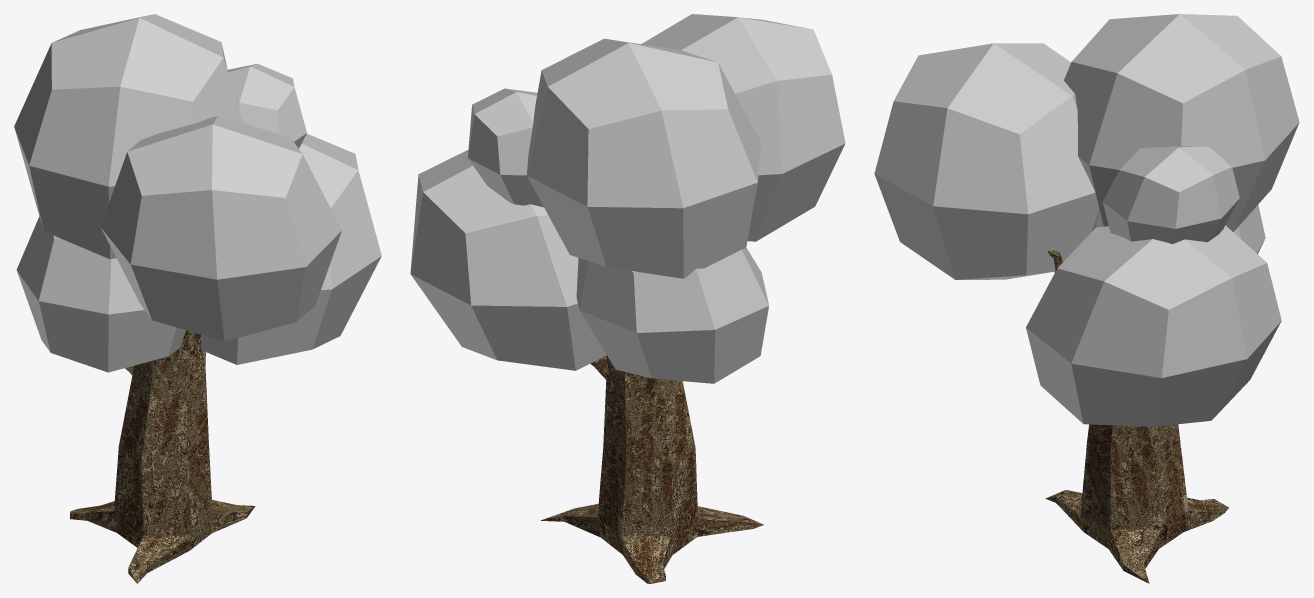
The model's file is Oak.fbx.
3 renders of one model, left to right at view 1: azimuth 30°, elevation 25°; view 2: azimuth 150°, elevation 25°; view 3: azimuth 270°, elevation 25°, orthographic. The views are drawn at different scales.
Visible parts, largest first — view 1: Cube.004; view 2: Cube.004; view 3: Cube.004.
Boxes of the visible parts, left/top/right/bottom form: Cube.004: left=14, top=14, right=381, bottom=583; Cube.004: left=410, top=14, right=845, bottom=583; Cube.004: left=874, top=14, right=1299, bottom=583.
Size of the model in its own units: 804 by 1144 by 849.
